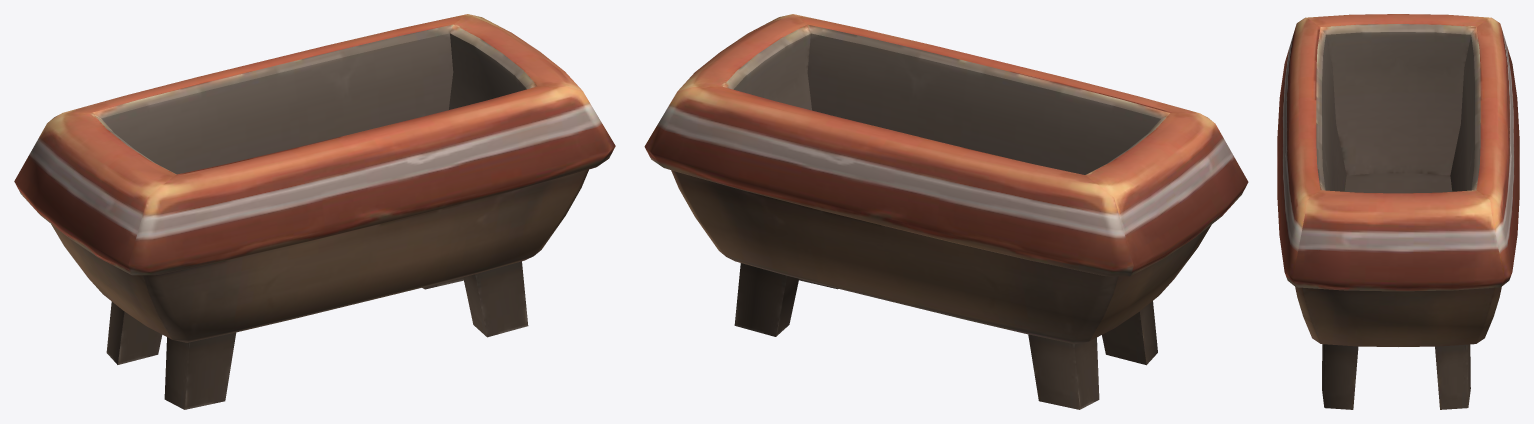
Rendered from DE_Flowerpot_05b.fbx.
3 views of the same model, side by side, from view 1: azimuth 30°, elevation 25°; view 2: azimuth 150°, elevation 25°; view 3: azimuth 270°, elevation 25° (orthographic). The views are drawn at different scales.
Visible parts, largest first — view 1: DE_Flowerpot_05b; view 2: DE_Flowerpot_05b; view 3: DE_Flowerpot_05b.
Part boxes in pixels (left/top/right/bottom): DE_Flowerpot_05b: left=14, top=14, right=615, bottom=409; DE_Flowerpot_05b: left=644, top=14, right=1248, bottom=409; DE_Flowerpot_05b: left=1277, top=14, right=1519, bottom=409.
Size of the model in its own units: 2.8 by 1.27 by 1.26.
